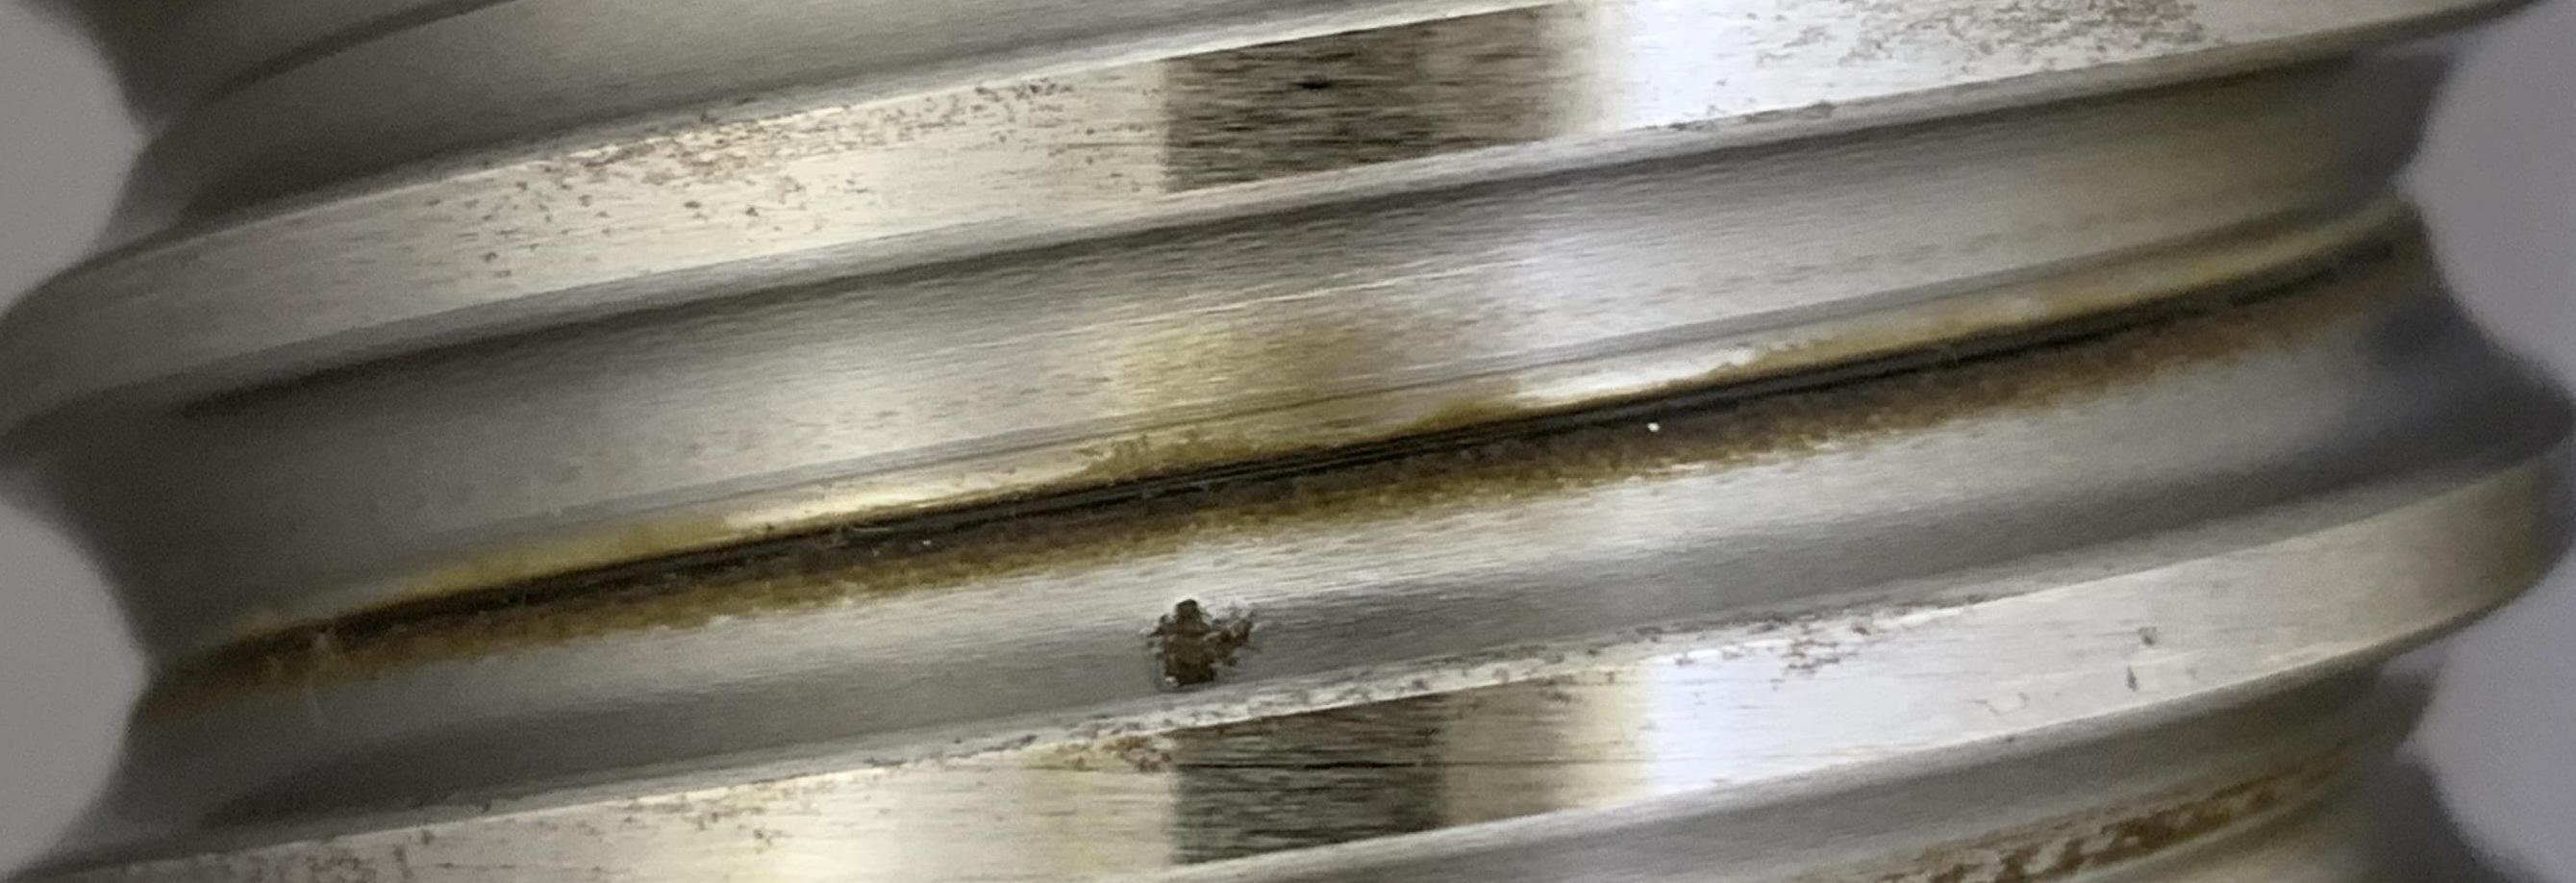pitting: (1145, 599, 1262, 687)
